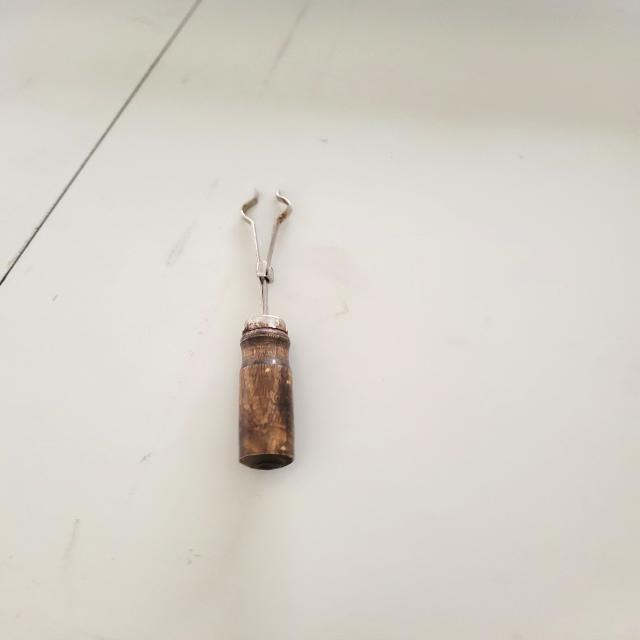TestTube_Holder: (196, 173, 328, 480)
